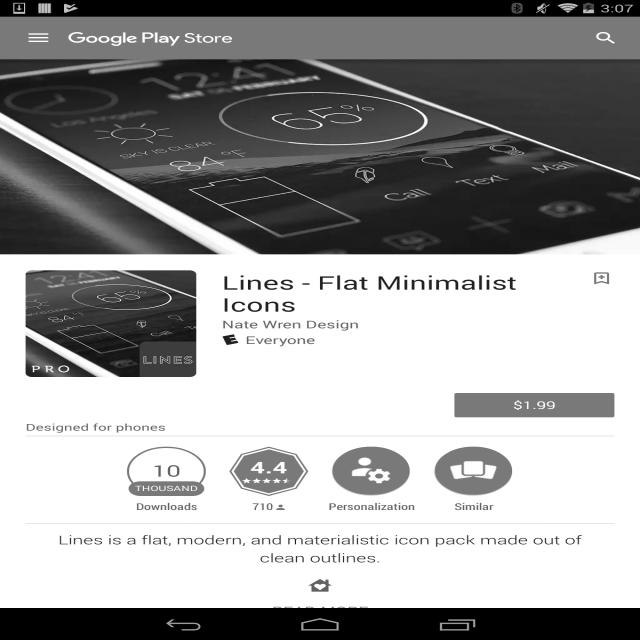Button: (222, 447, 316, 512), (324, 447, 418, 512), (426, 447, 520, 512), (454, 393, 614, 417)
ImageButton: (9, 17, 68, 59)
ImageView: (0, 59, 640, 254), (26, 270, 196, 377), (332, 447, 411, 496), (434, 447, 513, 496), (68, 30, 233, 46), (307, 578, 333, 594), (589, 270, 614, 286), (222, 334, 239, 345), (276, 505, 285, 510)
TextView: (0, 531, 640, 578), (222, 270, 589, 317), (0, 599, 640, 617), (222, 317, 359, 331), (25, 421, 166, 433), (580, 22, 632, 54), (324, 496, 418, 513), (426, 496, 520, 513), (120, 496, 213, 513), (245, 333, 316, 347), (250, 456, 288, 478), (133, 484, 200, 493), (152, 462, 181, 481), (252, 496, 273, 513)
